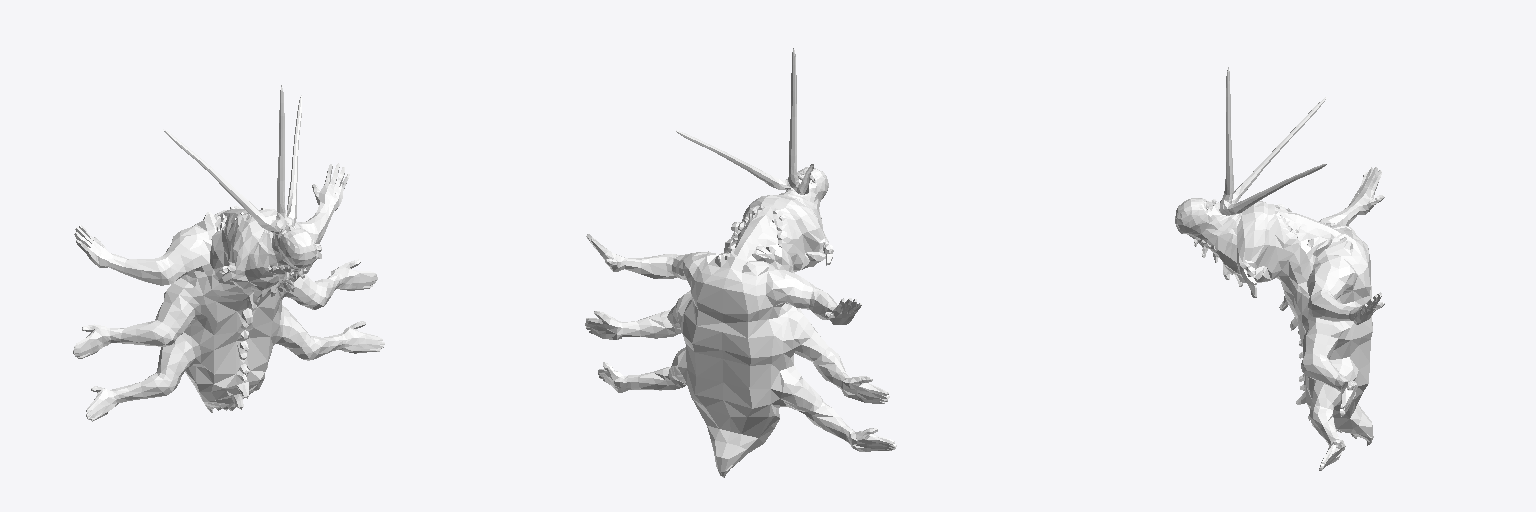
Rendered from centaur.obj.
3 renders of one model, left to right at view 1: azimuth 30°, elevation 25°; view 2: azimuth 150°, elevation 25°; view 3: azimuth 270°, elevation 25°, orthographic.
Visible parts, largest first — view 1: Centaur; view 2: Centaur; view 3: Centaur.
Part boxes in pixels (x1,y1,x2,y2): Centaur: (73, 85, 384, 421); Centaur: (585, 48, 896, 477); Centaur: (1175, 67, 1384, 470).
Size of the model in its own units: 165 by 197 by 98.31.